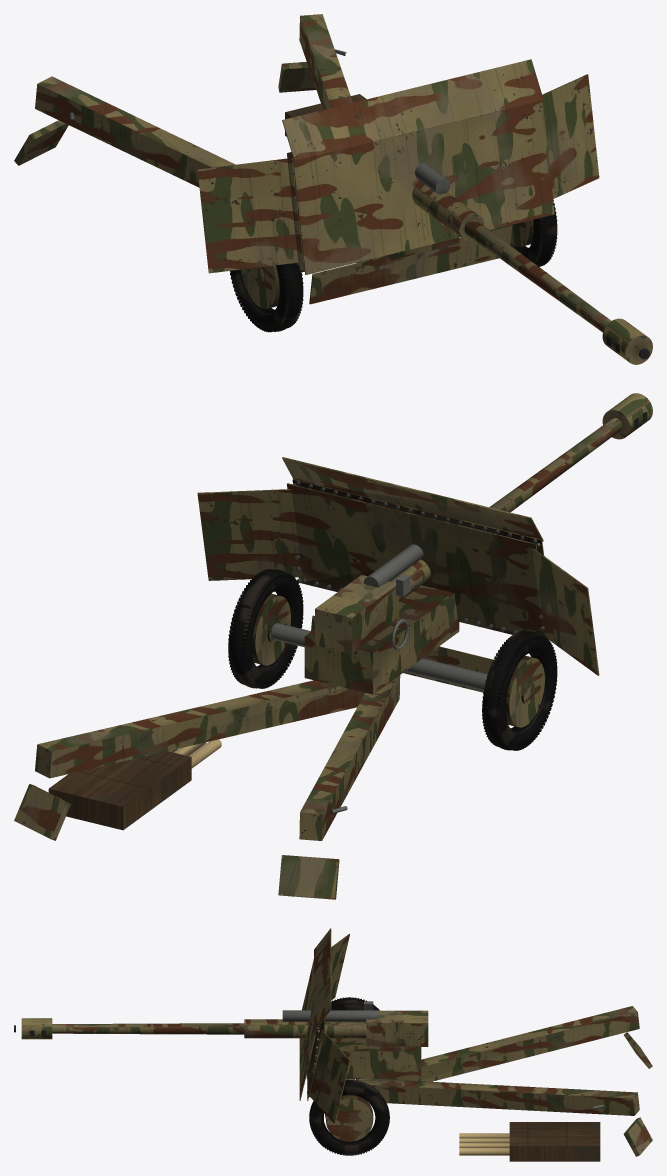
The model's file is pak40.glb.
The picture shows the model from 3 angles, top to bottom: view 1: azimuth 30°, elevation 25°; view 2: azimuth 150°, elevation 25°; view 3: azimuth 270°, elevation 25°; orthographic projection. The views are drawn at different scales.
Visible parts, largest first — view 1: Shield, Carriage, Barrel; view 2: Carriage, Shield, Barrel; view 3: Carriage, Barrel, Shield.
Part boxes in pixels (x1,y1,x2,y2): Shield: (197,59,599,304); Carriage: (14,14,557,332); Barrel: (412,163,652,364); Carriage: (14,569,557,899); Shield: (197,457,599,692); Barrel: (315,393,652,654); Carriage: (306,997,652,1161); Barrel: (14,1001,428,1046); Shield: (299,928,349,1123).
Bounding box in the file's own units: 3.14 × 1.67 × 6.68.
Materials: 6 (3 with a texture image).
